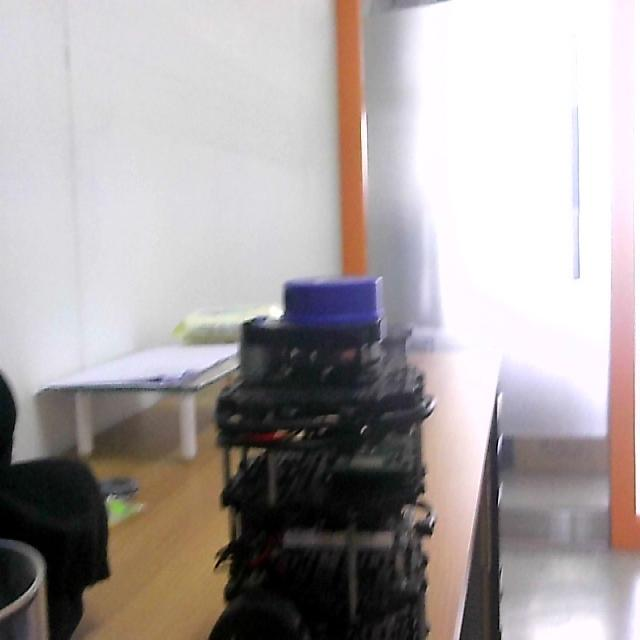turtle: (208, 275, 439, 640)
